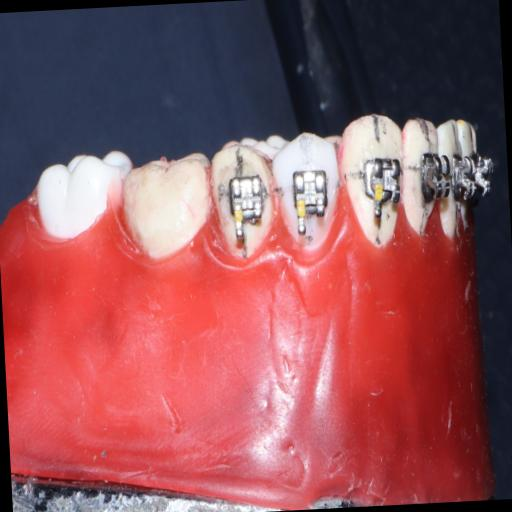incorrect_brace: (227, 172, 264, 226)
